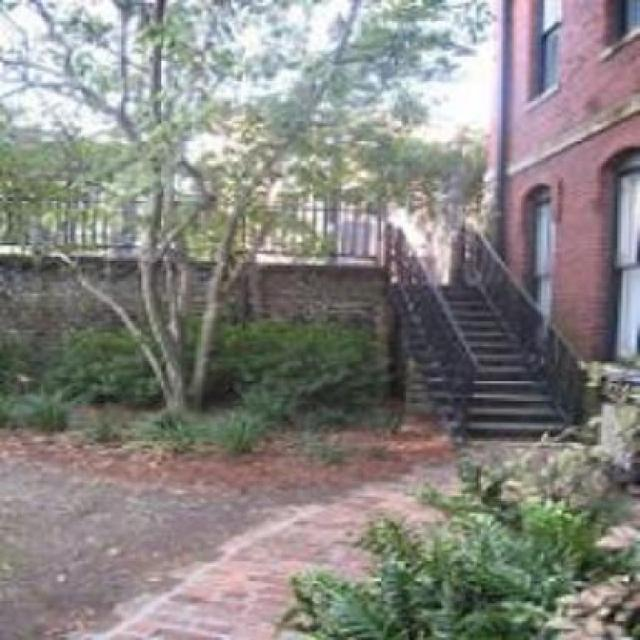stair: (387, 270, 596, 448)
